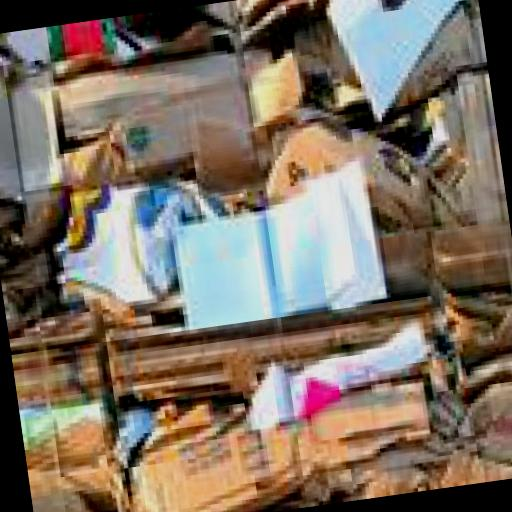cardboard: (0, 0, 512, 512), (108, 365, 442, 512), (92, 280, 438, 418), (40, 12, 282, 186), (160, 148, 384, 327), (39, 154, 250, 332), (254, 104, 432, 242), (279, 0, 487, 118), (232, 313, 438, 428), (312, 0, 490, 125), (288, 425, 512, 504), (412, 59, 506, 228), (41, 0, 284, 63), (18, 393, 128, 512), (373, 205, 512, 299), (0, 181, 83, 331), (0, 31, 69, 204), (6, 302, 111, 414), (423, 367, 512, 477), (180, 108, 266, 212), (423, 284, 512, 364), (227, 0, 320, 45), (448, 347, 512, 405)
